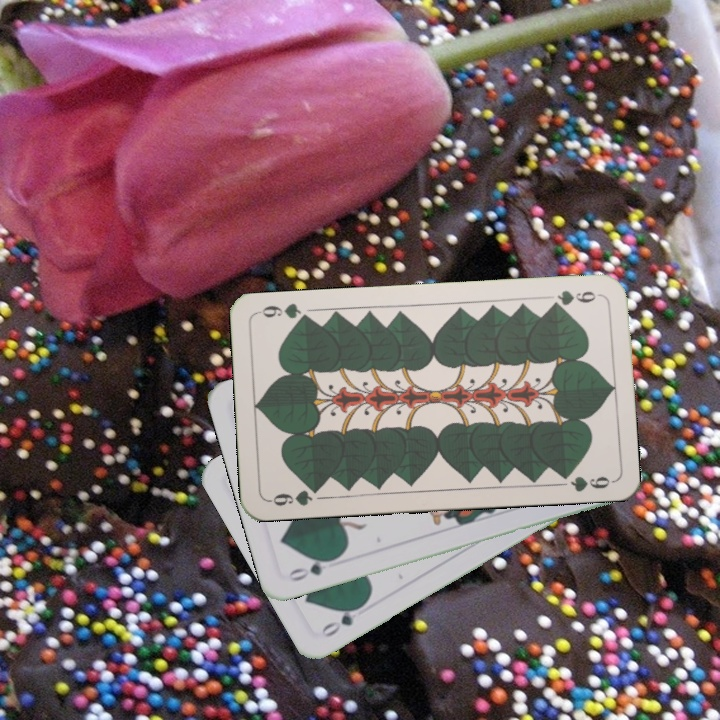G9: (265, 482, 323, 509), (546, 286, 603, 310)
GO: (316, 599, 368, 640), (283, 553, 340, 584)
